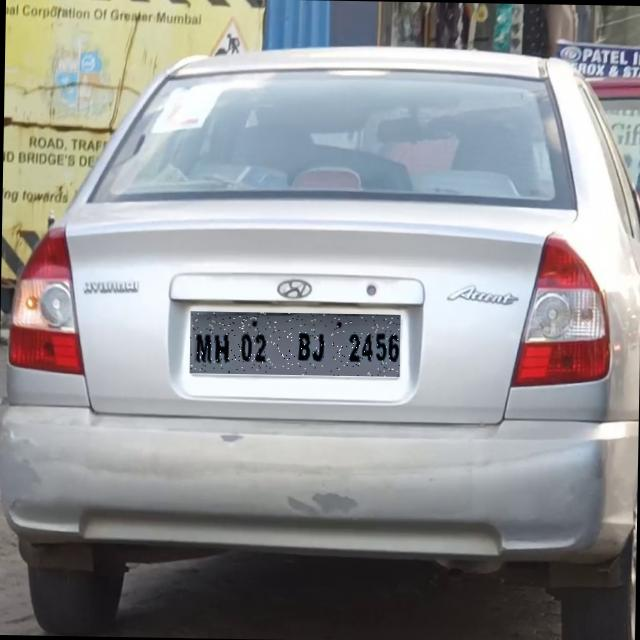Plate: (190, 312, 401, 378)
